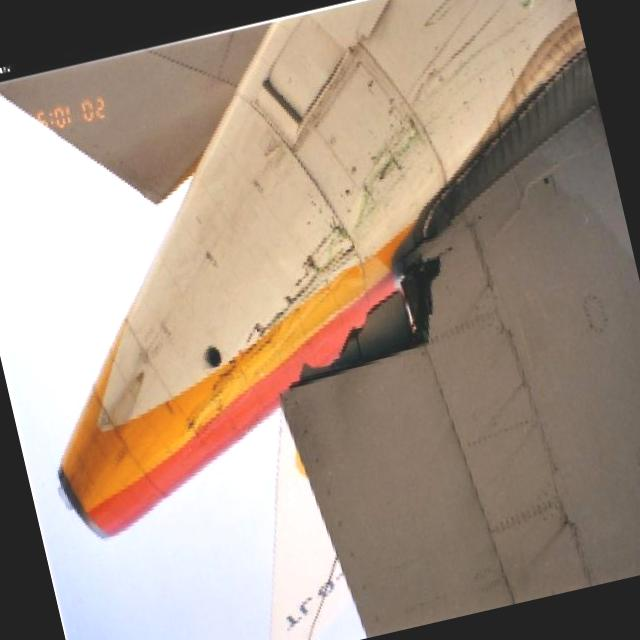crack: (258, 244, 480, 390)
